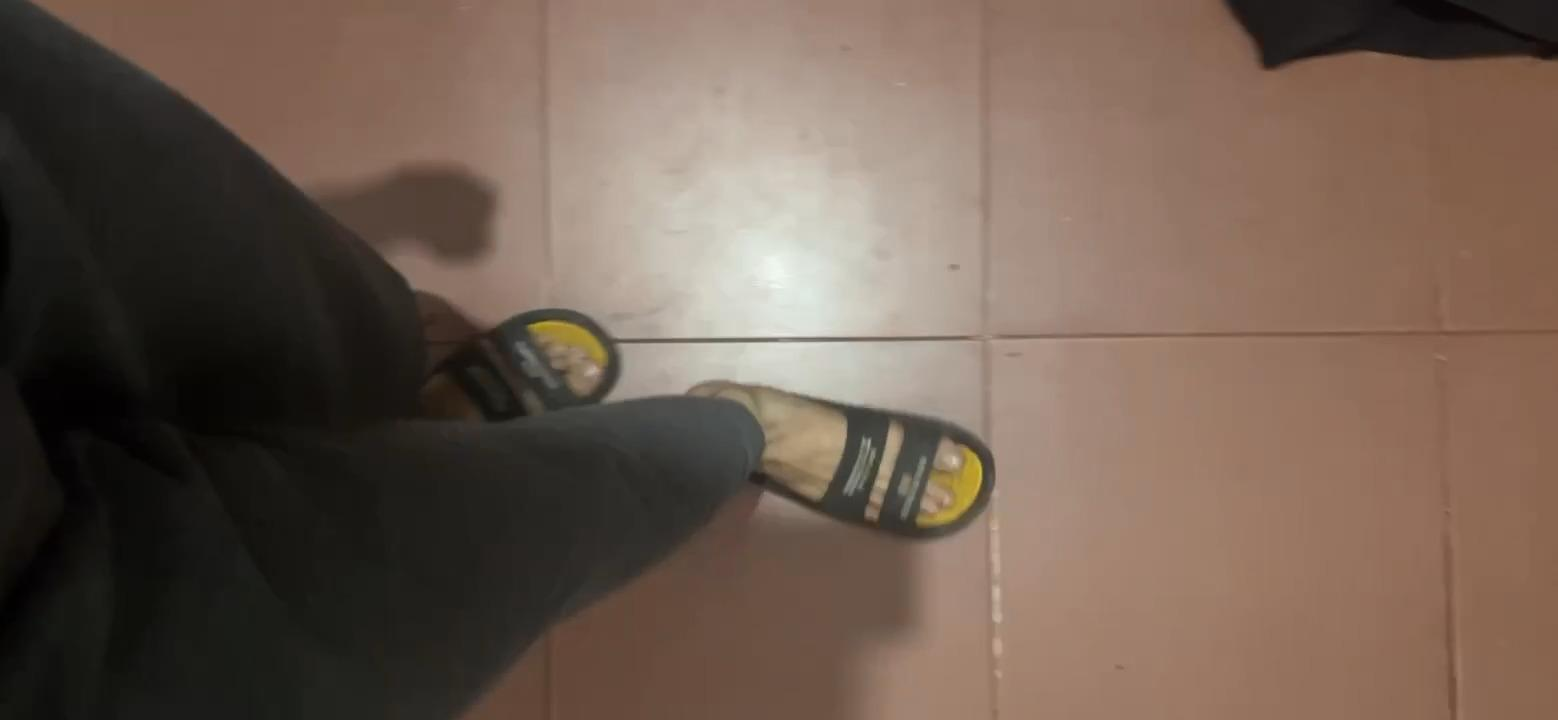no-boot: (691, 347, 1002, 555), (407, 299, 622, 437)
